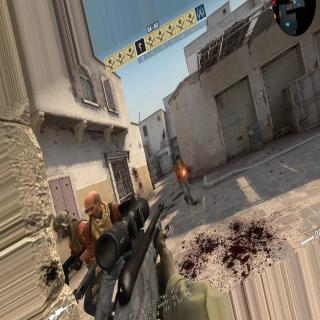T-Body: (82, 191, 130, 303), (52, 207, 88, 270), (174, 153, 197, 204)
T-Head: (82, 191, 104, 221), (52, 208, 72, 241), (176, 156, 180, 163)
